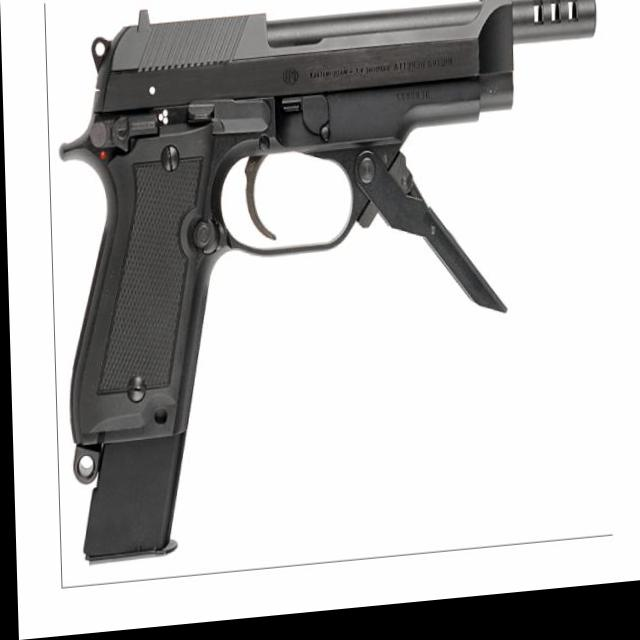handgun: (53, 0, 609, 575)
